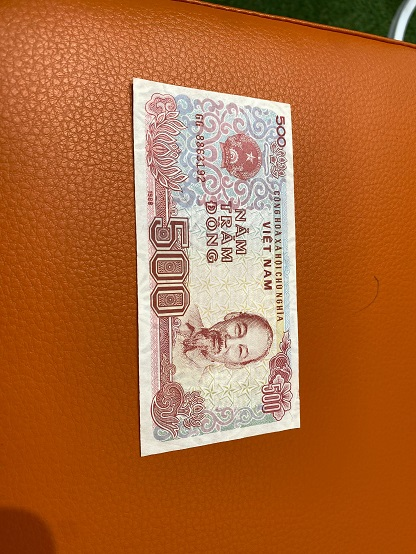500vnd: (129, 76, 303, 457)
